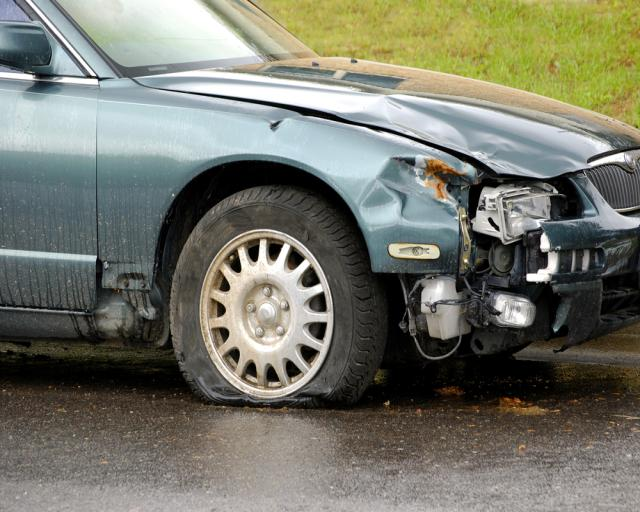dent: (333, 93, 589, 176), (357, 152, 476, 232), (265, 111, 303, 135)
lamp broken: (463, 166, 590, 238)
tire flat: (170, 180, 388, 410)
